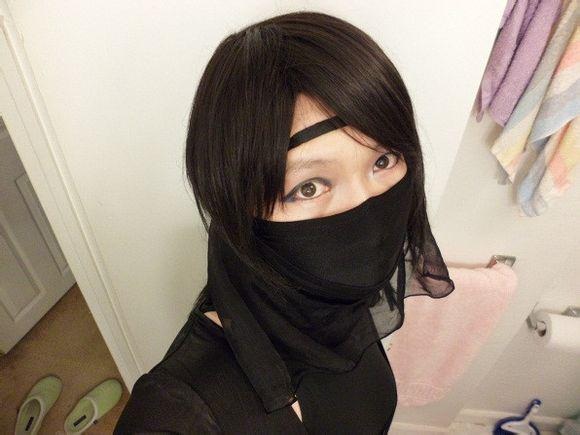OK: (268, 148, 417, 292)
